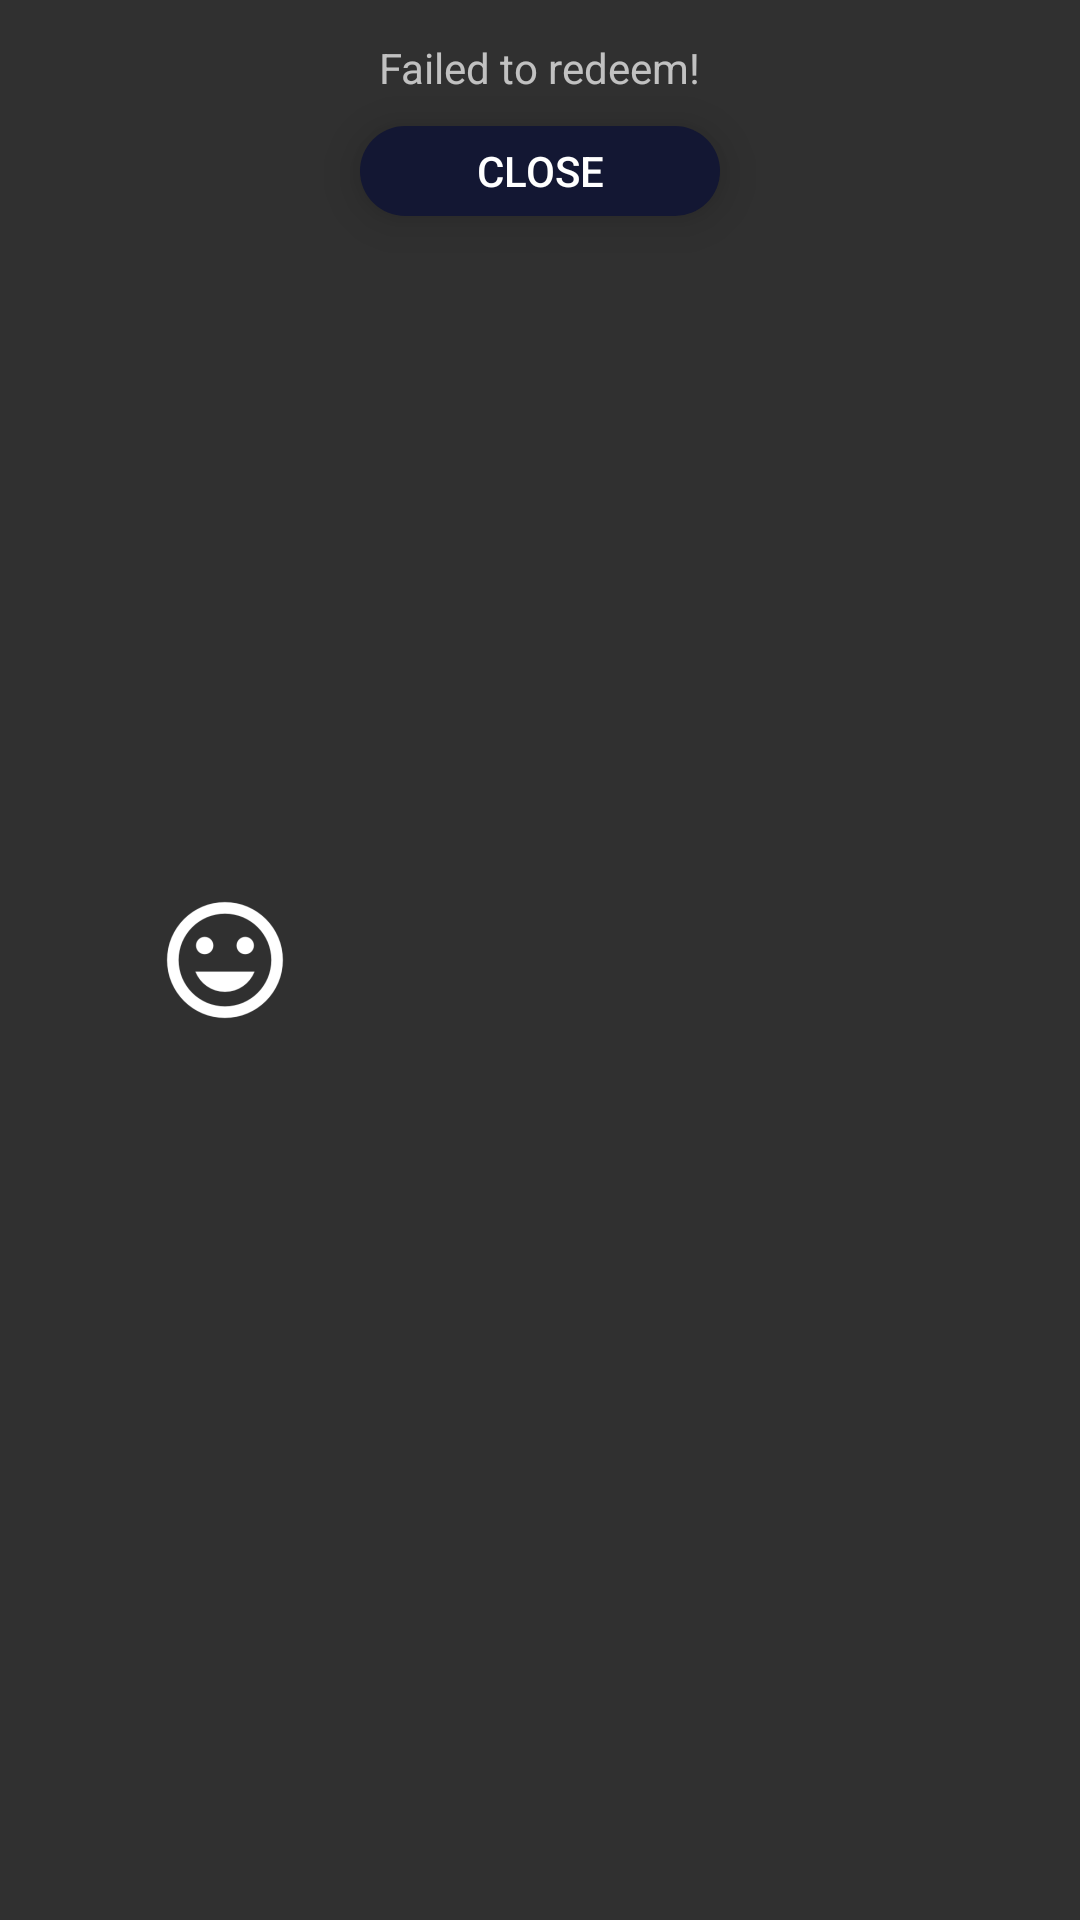

Icons on this 1080 × 1920 Android screen, each with its box as (x1, y1, x2, y2):
successful redemp: (167, 902, 283, 1018)
